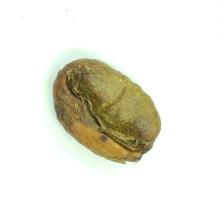NG: (101, 69, 162, 161), (53, 59, 106, 147)
